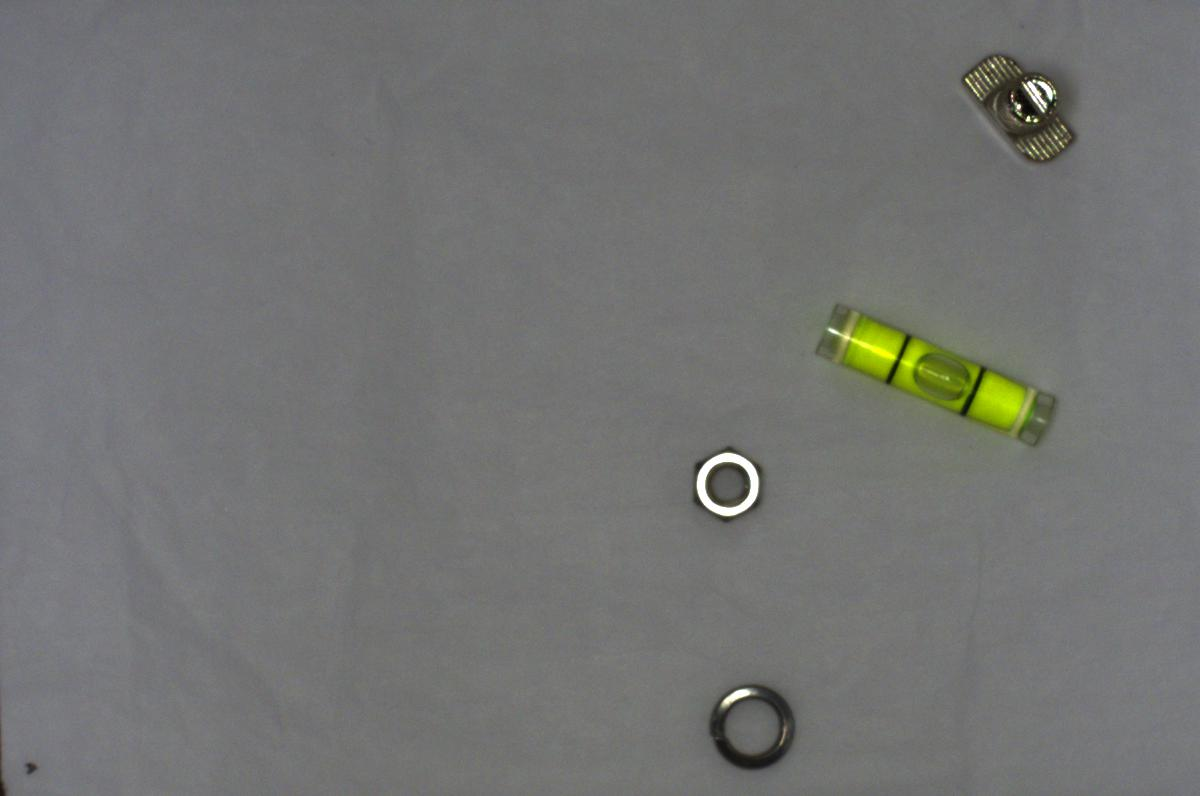Hexagon nut: (672, 429, 765, 533)
Horizontal bubble: (804, 298, 1064, 454)
Spring washer: (695, 676, 812, 776)
T-shaped screw: (944, 45, 1086, 176)
